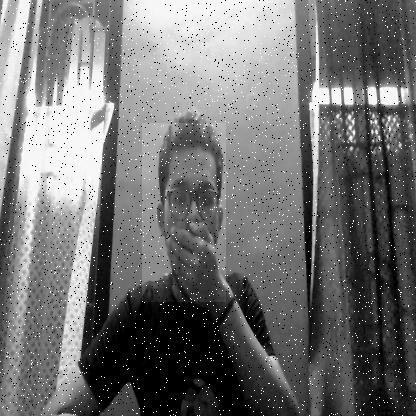Normal: (142, 123, 226, 302)
